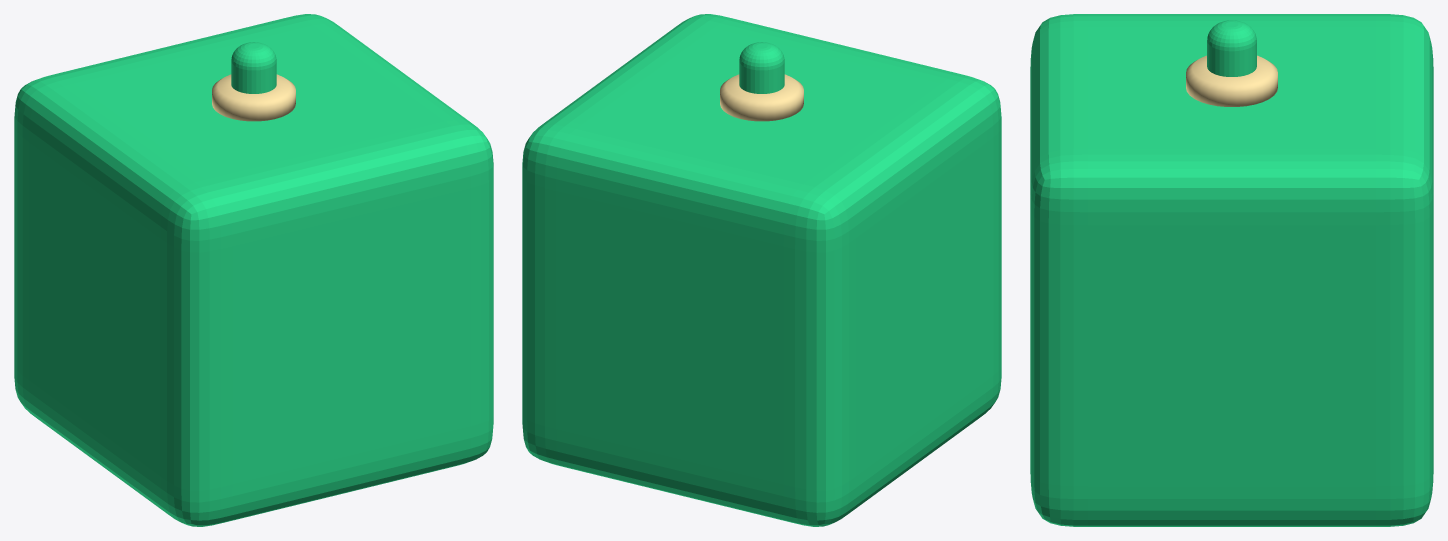
File: random 1.fbx
3 views of the same model, side by side, from view 1: azimuth 30°, elevation 25°; view 2: azimuth 150°, elevation 25°; view 3: azimuth 270°, elevation 25° (orthographic). The views are drawn at different scales.
Parts seen in each view (by area): view 1: Cylinder.001; view 2: Cylinder.001; view 3: Cylinder.001.
Part boxes in pixels (bbox=[...]): Cylinder.001: bbox=[14, 14, 493, 526]; Cylinder.001: bbox=[522, 14, 1001, 526]; Cylinder.001: bbox=[1030, 14, 1433, 526].
Size of the model in its own units: 140 by 164 by 140.
